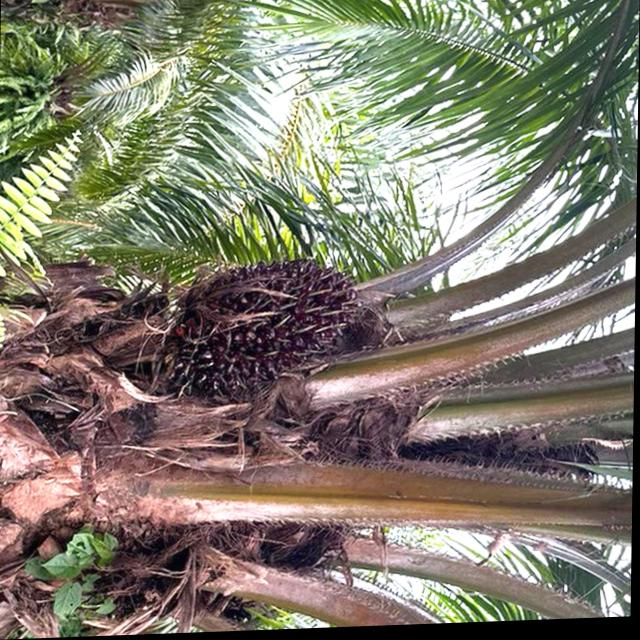ripe: (171, 247, 367, 400)
